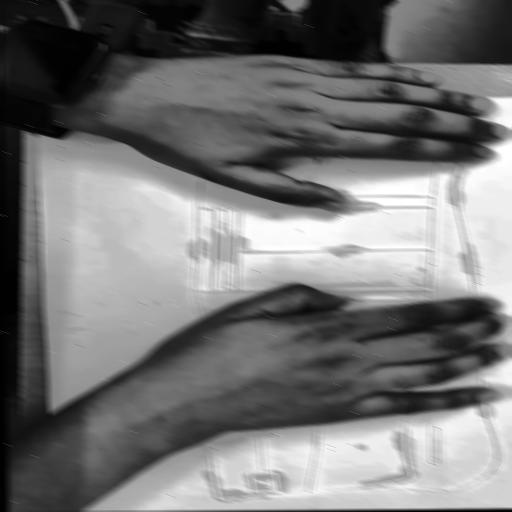bottom_left: (34, 99, 48, 107)
bus: (167, 117, 501, 508)
